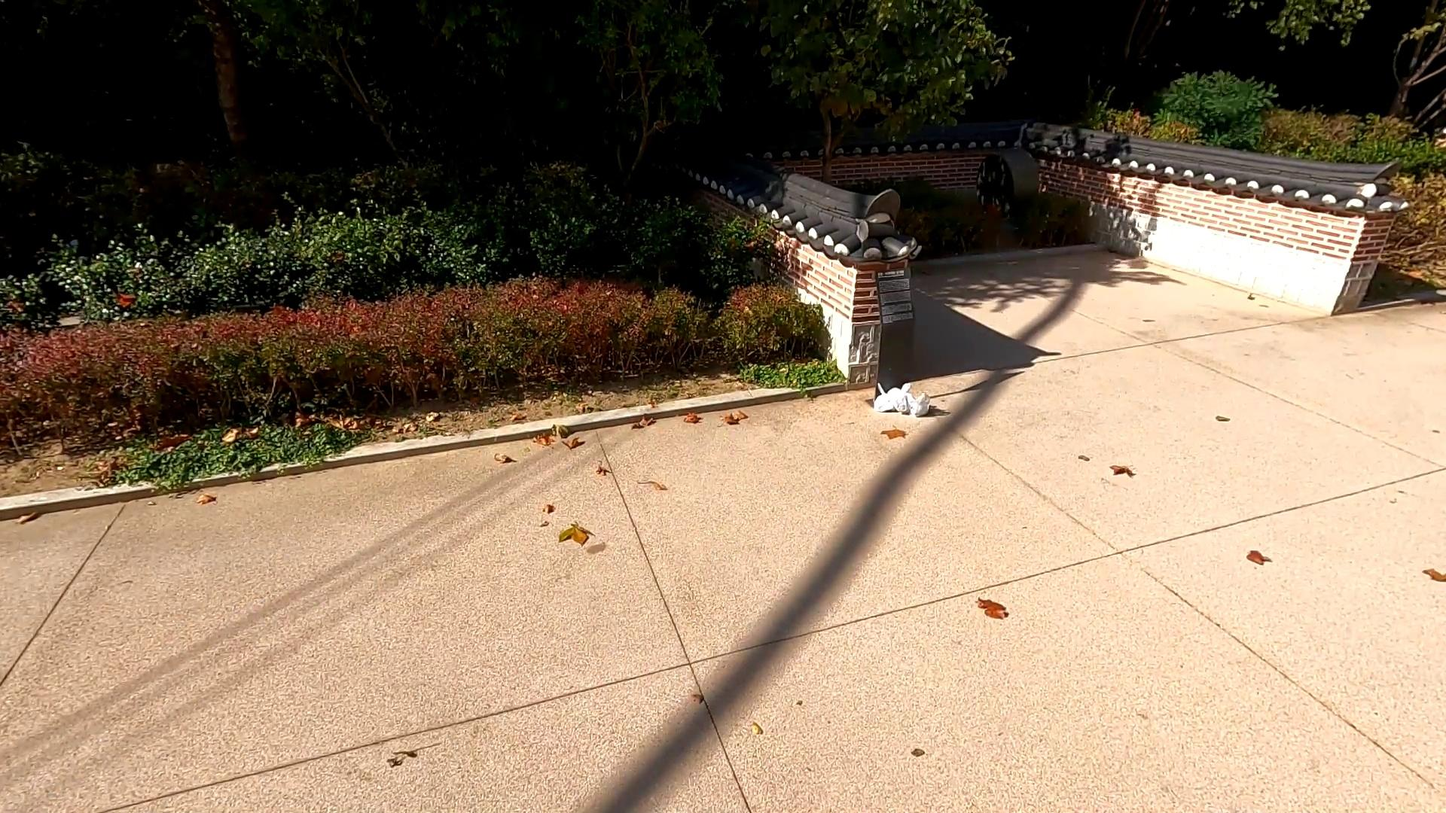trash: (888, 383, 915, 415), (903, 388, 931, 418), (873, 383, 902, 411)
